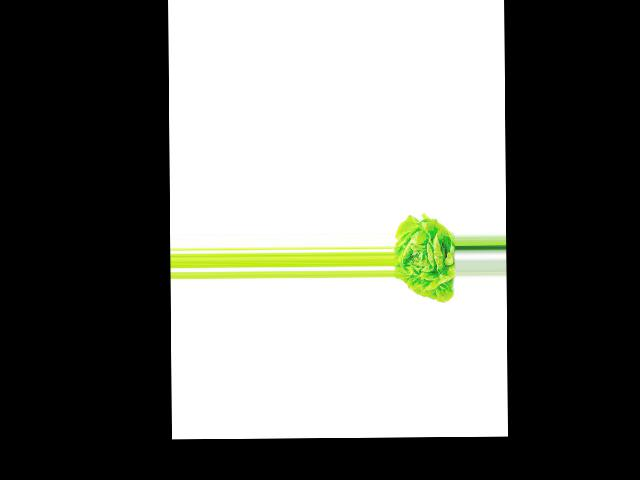lettuce: (394, 216, 456, 304)
